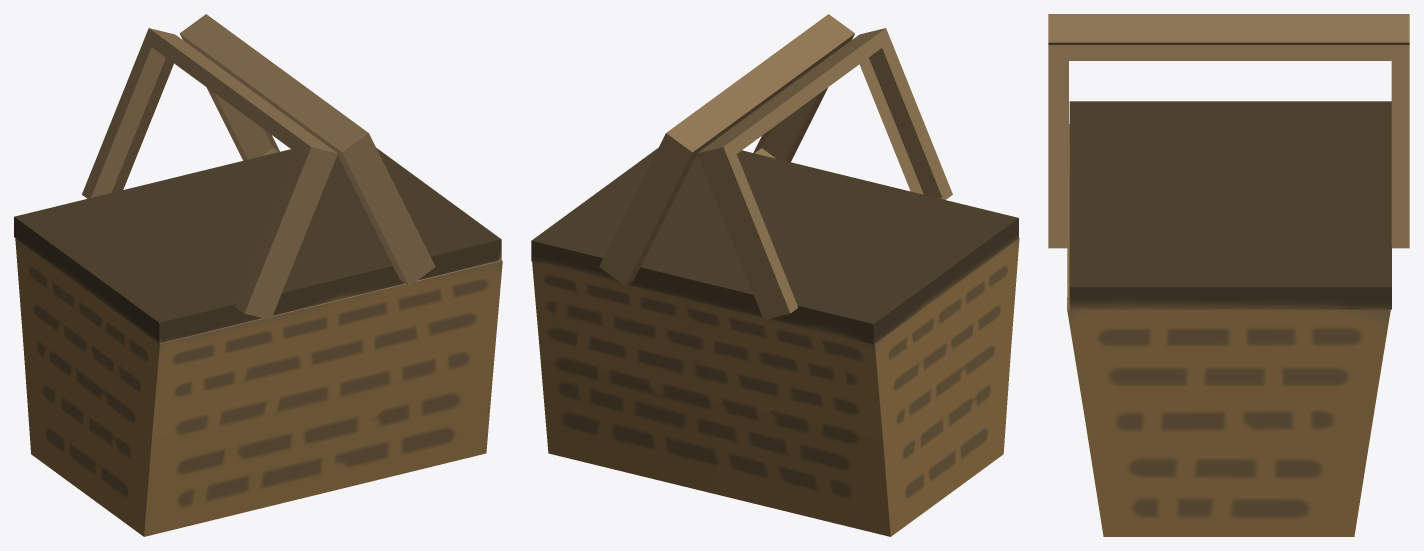
Rendered from Picnic Basket.glb.
3 renders of one model, left to right at view 1: azimuth 30°, elevation 25°; view 2: azimuth 150°, elevation 25°; view 3: azimuth 270°, elevation 25°, orthographic. The views are drawn at different scales.
Parts seen in each view (by area): view 1: Cube.003; view 2: Cube.003; view 3: Cube.003.
Boxes of the visible parts, left/top/right/bottom form: Cube.003: left=14, top=14, right=502, bottom=536; Cube.003: left=531, top=14, right=1019, bottom=536; Cube.003: left=1048, top=14, right=1409, bottom=536.
Size of the model in its own units: 3.5 by 3.65 by 2.88.
4 materials, 4 textured.
